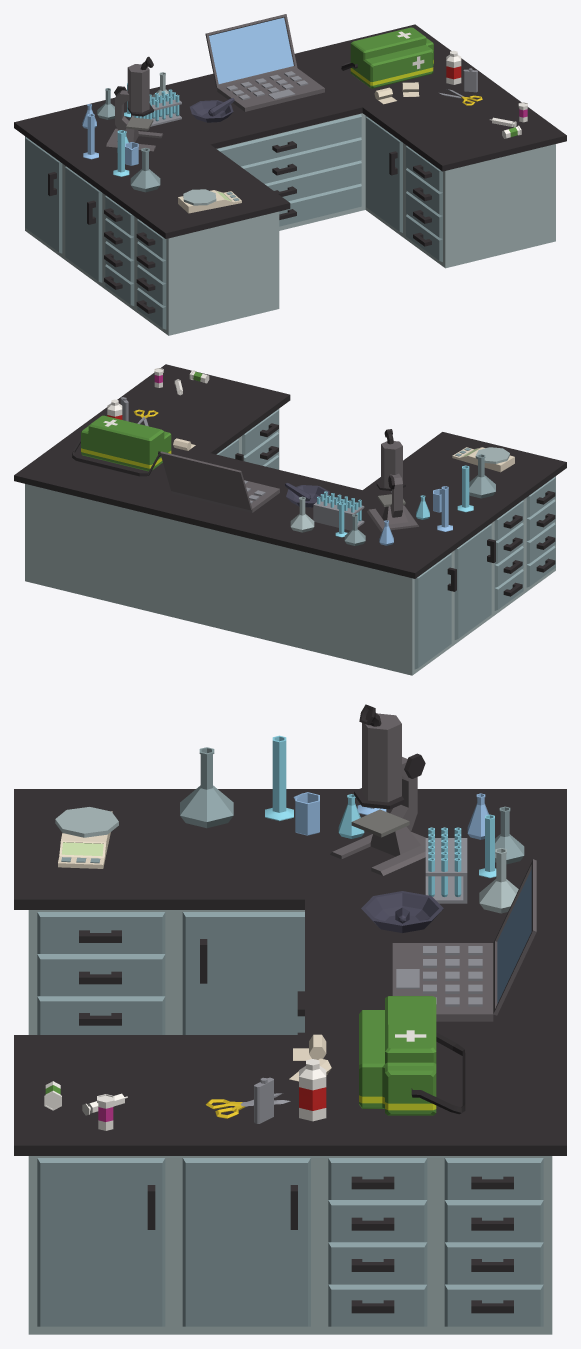
Rendered from g_o_MedicineLab.fbx.
3 renders of one model, top to bottom at view 1: azimuth 30°, elevation 25°; view 2: azimuth 150°, elevation 25°; view 3: azimuth 270°, elevation 25°, orthographic. The views are drawn at different scales.
Parts seen in each view (by area): view 1: medicine_lab; view 2: medicine_lab; view 3: medicine_lab.
Part boxes in pixels (x1,y1,x2,y2): medicine_lab: (14,14,566,335); medicine_lab: (14,364,566,675); medicine_lab: (14,704,566,1334).
Bounding box in the file's own units: 2.94 × 1.32 × 1.9.
